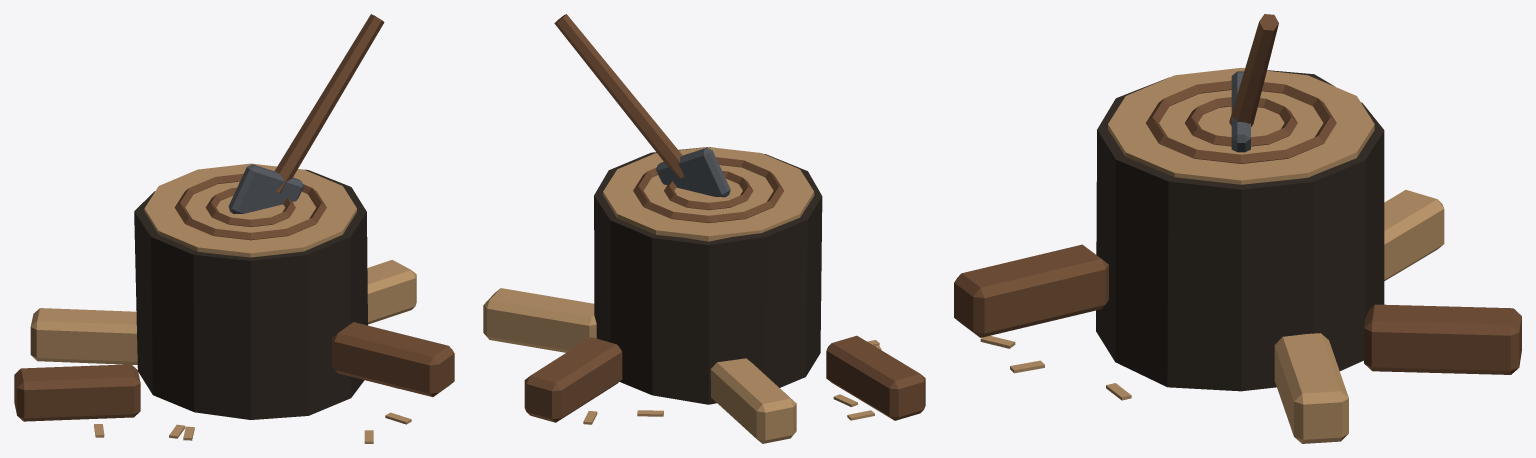
Rendered from chop_block.glb.
3 renders of one model, left to right at view 1: azimuth 30°, elevation 25°; view 2: azimuth 150°, elevation 25°; view 3: azimuth 270°, elevation 25°, orthographic. The views are drawn at different scales.
Parts seen in each view (by area): view 1: ChopBlock; view 2: ChopBlock; view 3: ChopBlock.
Boxes of the visible parts, box(x1,y1,x2,y2) form: ChopBlock: box(14, 14, 454, 443); ChopBlock: box(483, 14, 925, 443); ChopBlock: box(954, 14, 1521, 443).
Bounding box in the file's own units: 1.08 × 0.7963 × 1.02.
